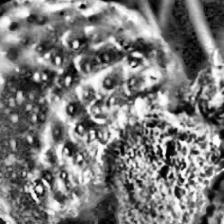Gray Mold: (105, 48, 223, 224)
